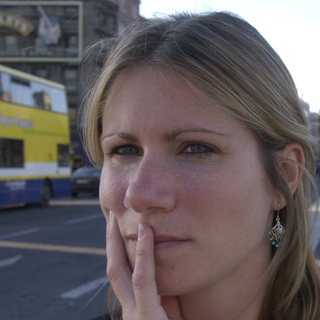eye: (168, 138, 226, 164), (101, 138, 148, 166)
